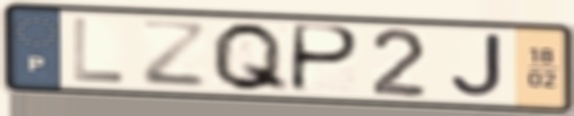2: (369, 26, 431, 101)
J: (447, 32, 505, 101)
L: (69, 15, 128, 86)
P: (286, 21, 364, 96)
Q: (207, 20, 293, 95)
Z: (138, 17, 210, 90)
